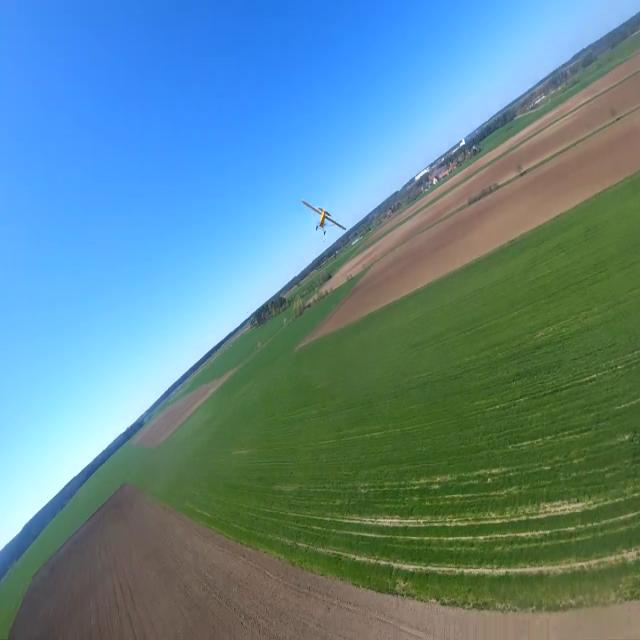iha: (302, 200, 346, 234)
